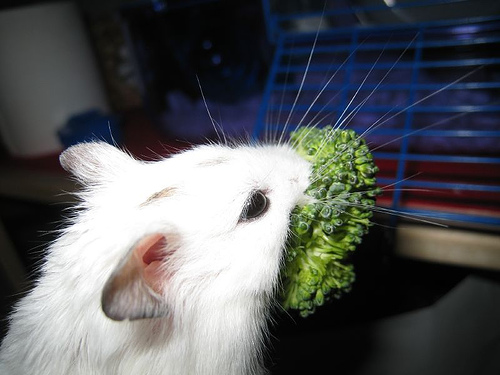broccoli: (292, 111, 379, 320)
